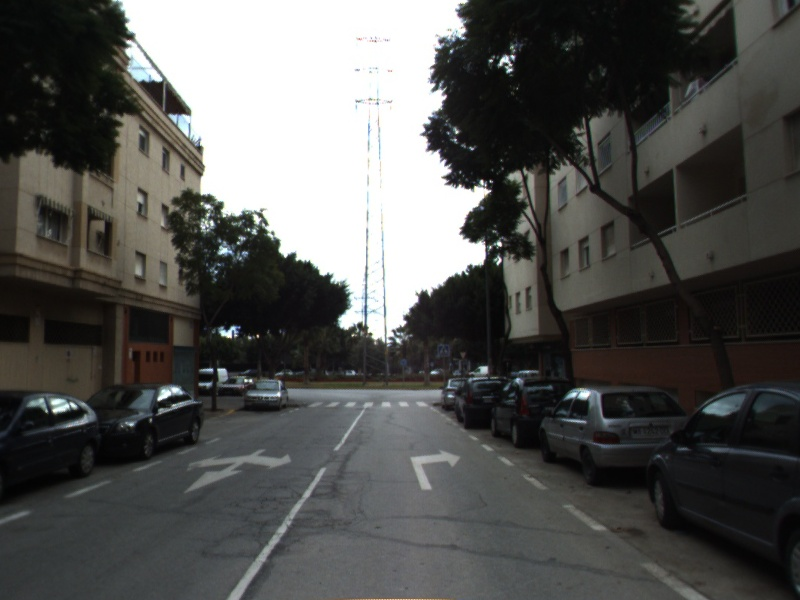RIGHT: (408, 448, 463, 491)
